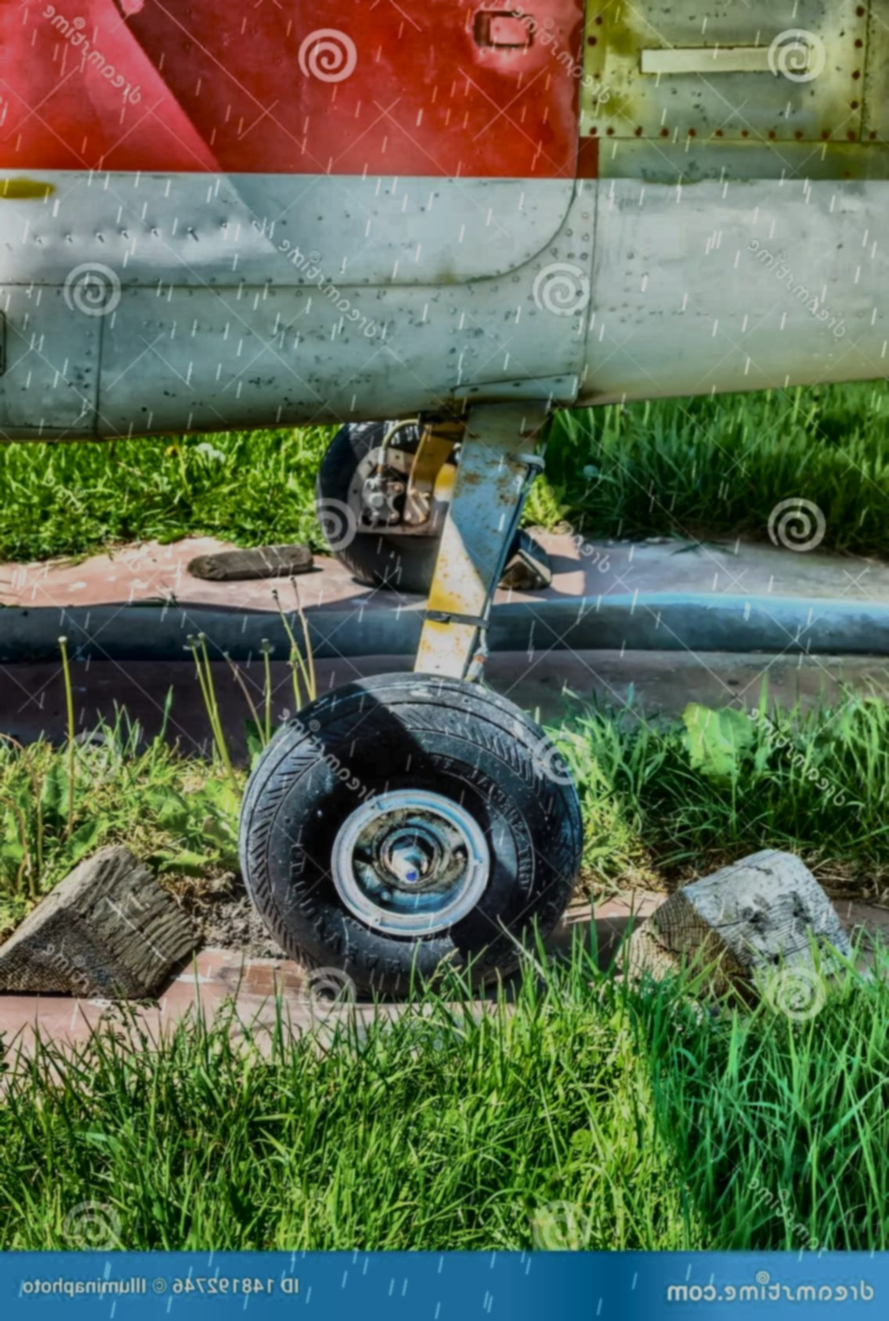chock: (613, 831, 866, 1016), (0, 831, 207, 1012), (496, 516, 555, 596)
wheel: (243, 675, 586, 993), (319, 419, 445, 587)
